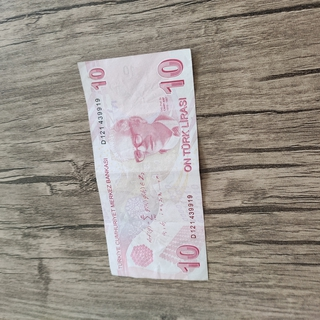10TLBack: (76, 46, 209, 281)
